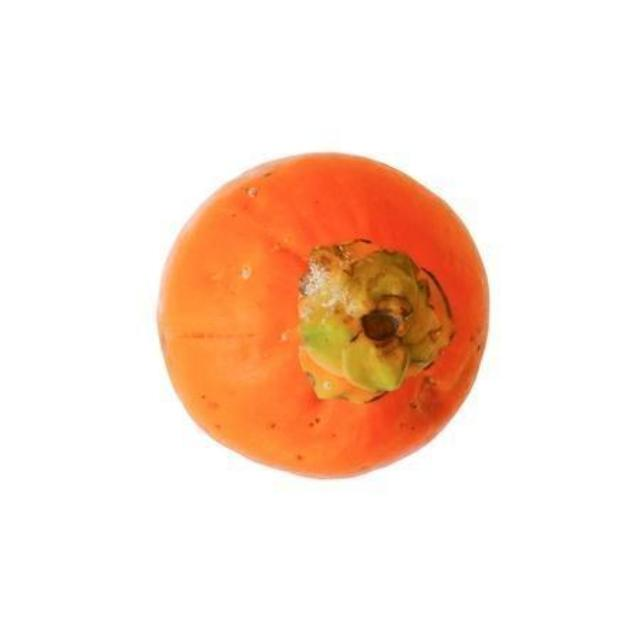good: (155, 155, 489, 480)
